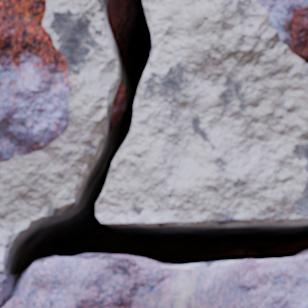brick: (0, 0, 69, 161), (258, 0, 307, 62)
broken_brick: (0, 256, 307, 307)
crack: (0, 0, 307, 306)
